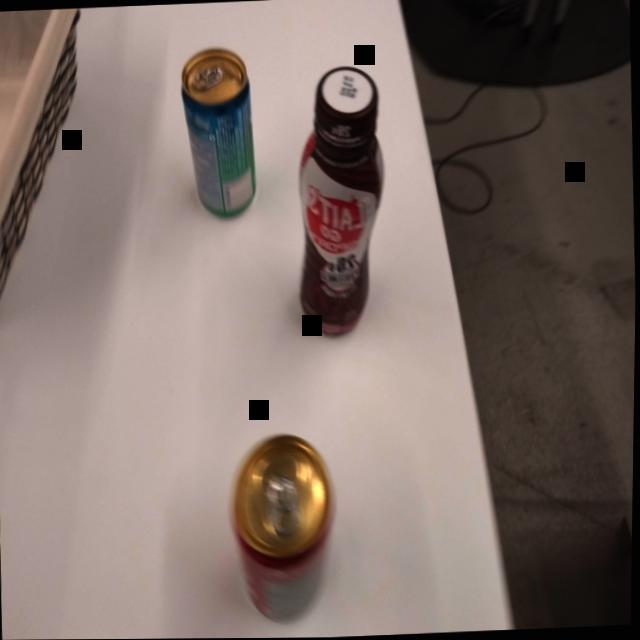chocolate_drink: (282, 59, 398, 344)
sprite: (175, 43, 263, 225)
